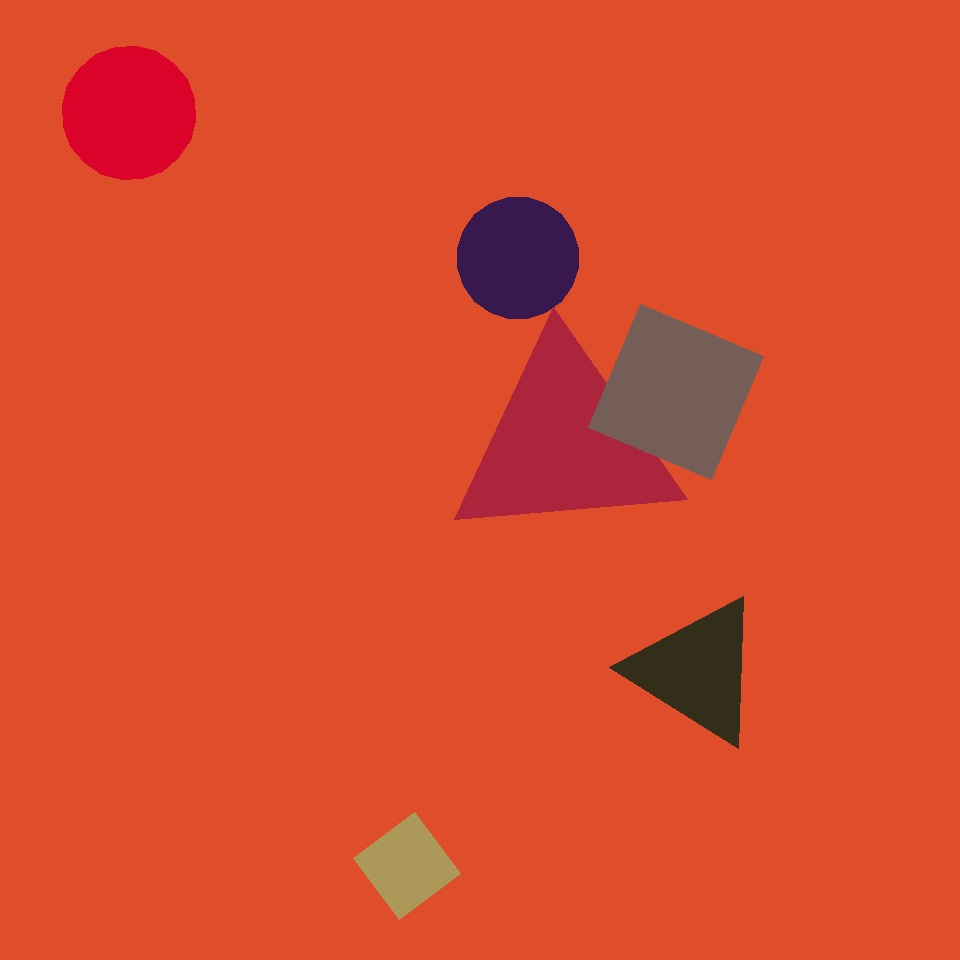circle: (670, 251, 908, 498), (498, 148, 715, 382), (448, 336, 682, 548), (689, 396, 858, 549), (630, 595, 764, 747)
square: (389, 229, 610, 450), (588, 304, 764, 480), (393, 97, 514, 218), (354, 812, 460, 920), (546, 479, 648, 581)
triangle: (62, 46, 196, 180), (458, 198, 578, 318)
